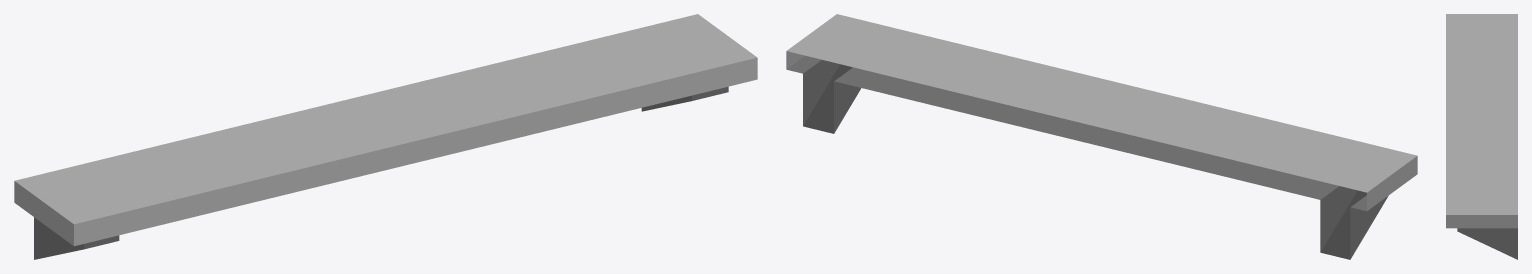
The model's file is Shelf7.glb.
3 renders of one model, left to right at view 1: azimuth 30°, elevation 25°; view 2: azimuth 150°, elevation 25°; view 3: azimuth 270°, elevation 25°, orthographic. The views are drawn at different scales.
Parts seen in each view (by area): view 1: SI_Prop_Shelf_11; view 2: SI_Prop_Shelf_11; view 3: SI_Prop_Shelf_11.
Part boxes in pixels (<box>): SI_Prop_Shelf_11: <box>14,14,757,259</box>; SI_Prop_Shelf_11: <box>786,14,1417,259</box>; SI_Prop_Shelf_11: <box>1446,14,1517,259</box>.
Size of the model in its own units: 0.0662 by 0.00778 by 0.01.
1 material, 1 textured.
